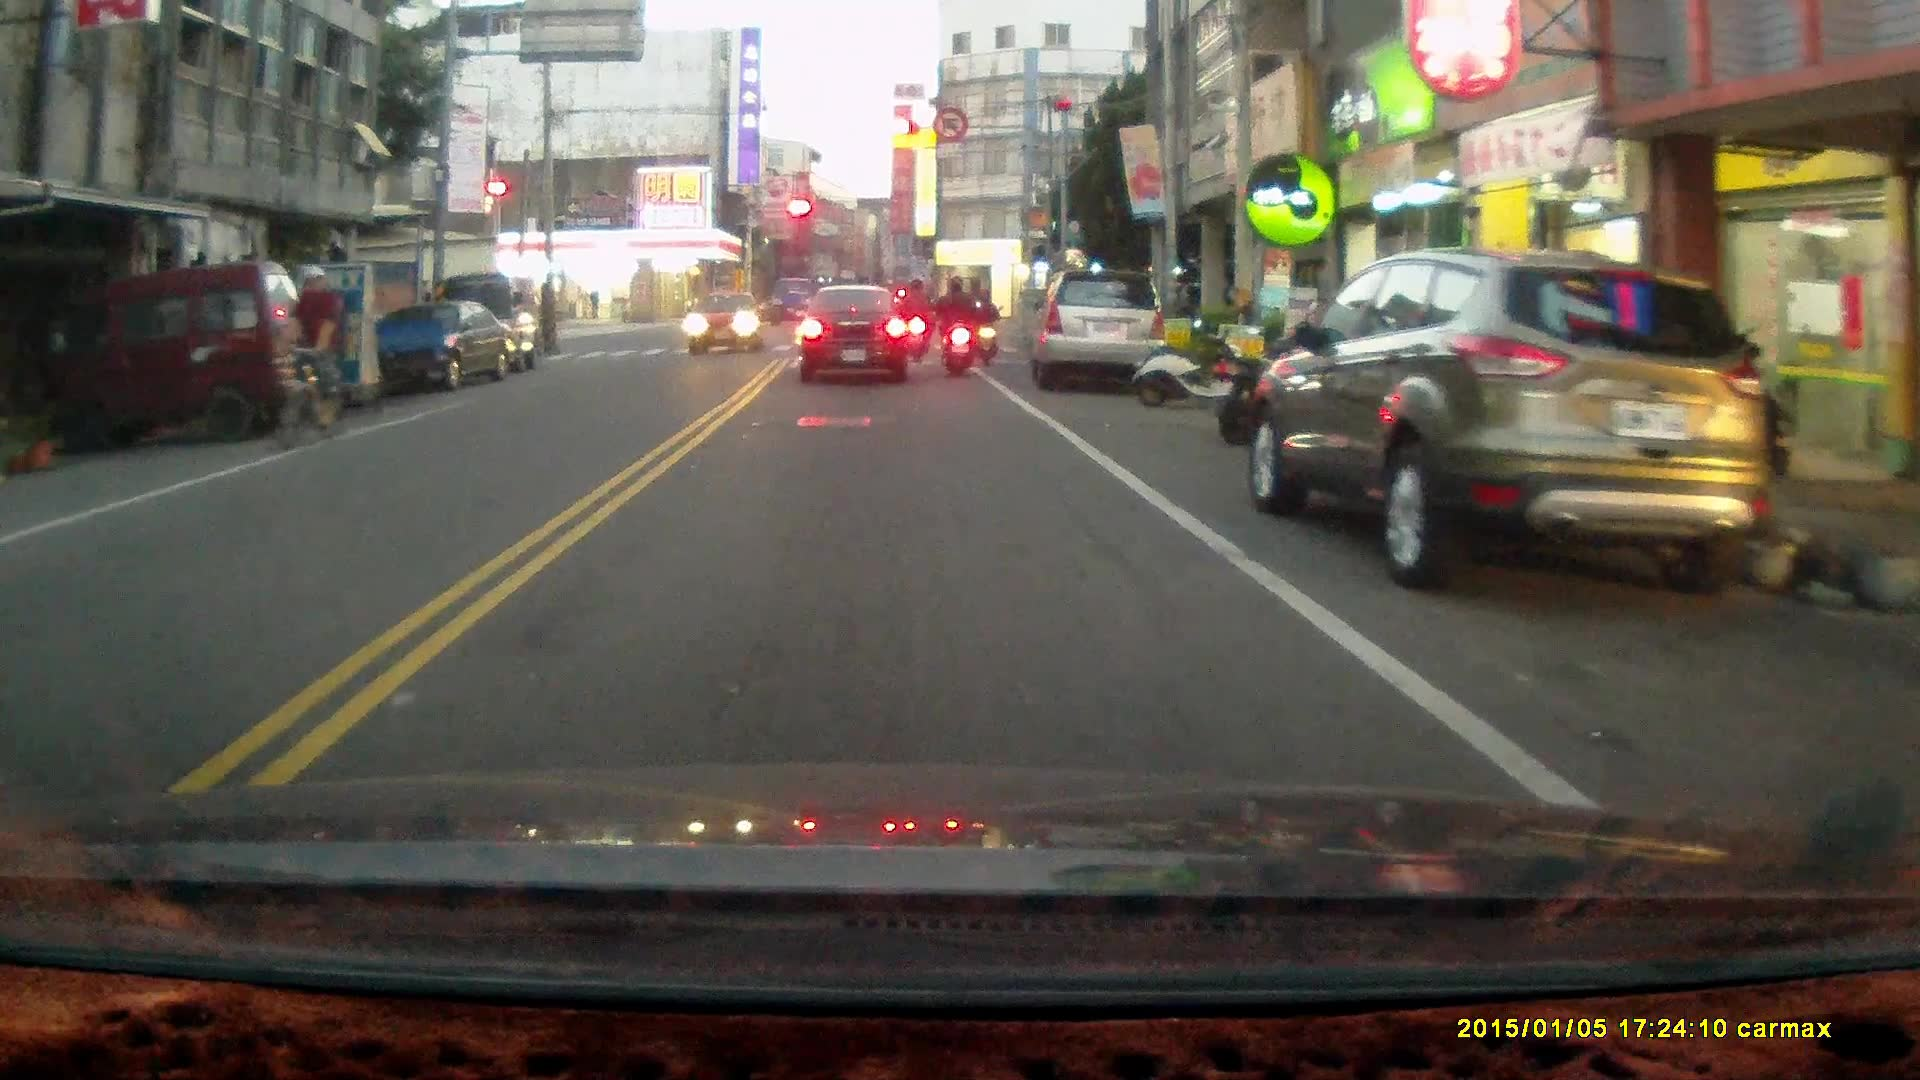rider: (270, 264, 345, 452), (931, 271, 980, 378), (895, 273, 932, 362), (971, 285, 1001, 367)
vehicle: (1248, 250, 1767, 598), (33, 260, 316, 445), (1027, 268, 1170, 393), (380, 297, 508, 392), (800, 281, 914, 387), (690, 289, 768, 357)
